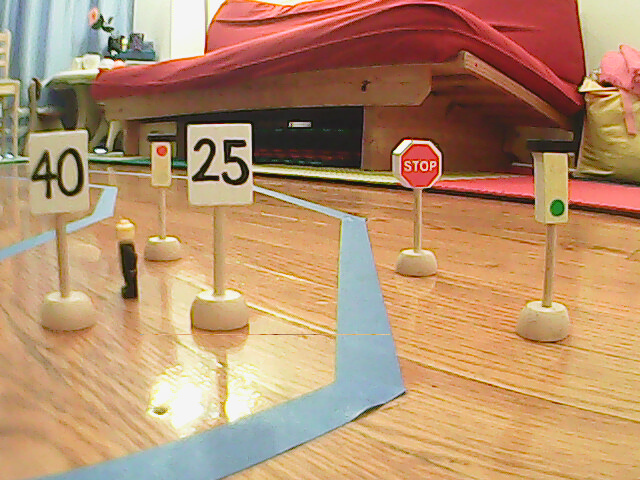Green Traffic Light: (527, 139, 575, 223)
Person: (111, 218, 141, 298)
Red Traffic Light: (145, 134, 177, 186)
Speed Limit 25: (187, 123, 253, 206)
Speed Limit 40: (27, 133, 91, 215)
Stop Sign: (393, 139, 444, 189)
